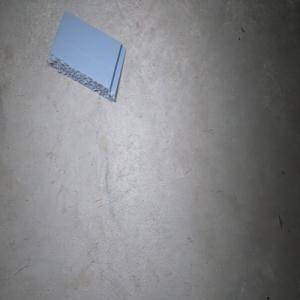PlasticPart: (46, 11, 126, 102)
